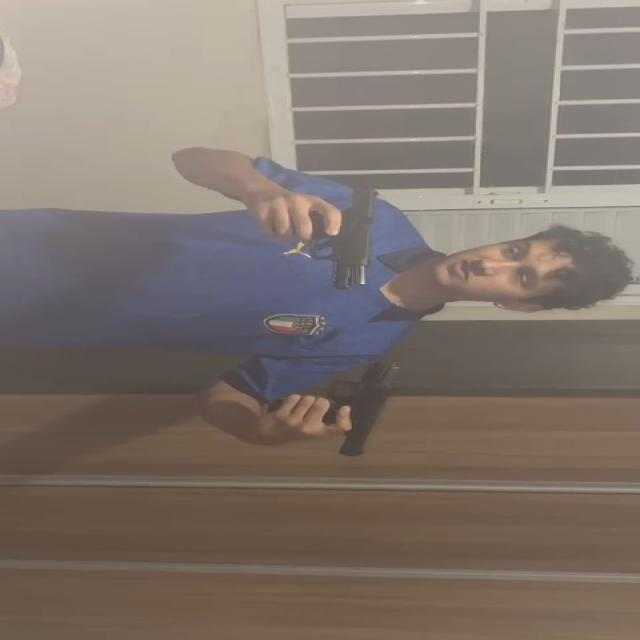gun: (326, 363, 404, 457), (320, 190, 378, 288)
